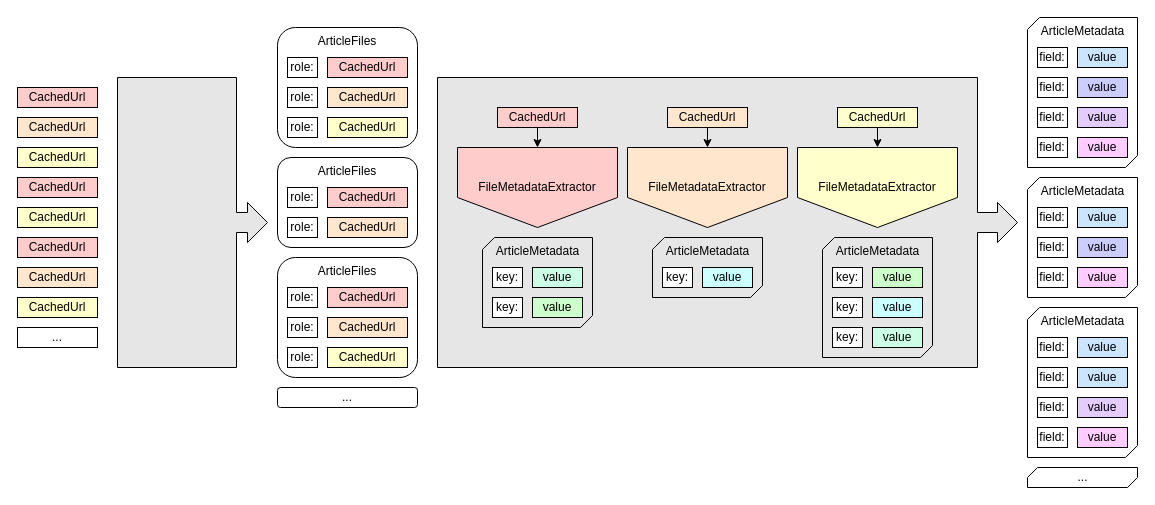
The diagram is 1155 pixels wide and 505 high, and some of its shapes have lost their labels. Here are the shapes that lost their labels. From the top down, the box of each, then its label:
(116, 76, 268, 368): ArticleIterator
(436, 76, 1018, 368): ArticleMetadataExtractor
